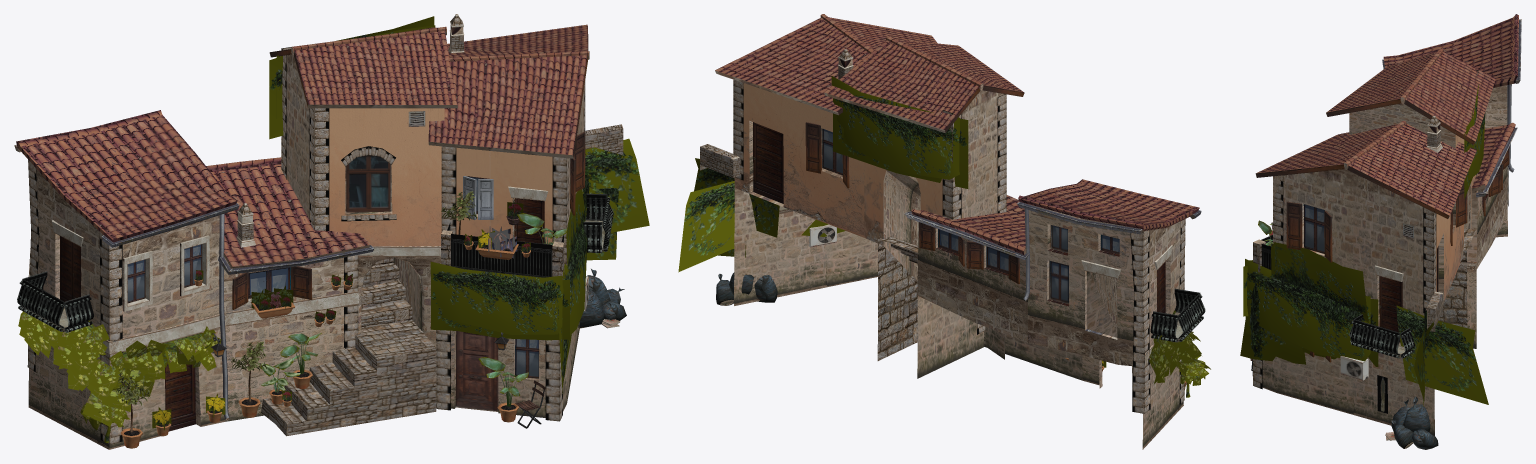
The model's file is house_4.fbx.
The picture shows the model from 3 angles, left to right: view 1: azimuth 30°, elevation 25°; view 2: azimuth 150°, elevation 25°; view 3: azimuth 270°, elevation 25°; orthographic projection. The views are drawn at different scales.
Parts seen in each view (by area): view 1: House_4; view 2: House_4; view 3: House_4.
Part boxes in pixels (left/top/right/bottom): House_4: left=14, top=14, right=649, bottom=449; House_4: left=678, top=14, right=1210, bottom=449; House_4: left=1240, top=14, right=1521, bottom=449.
Size of the model in its own units: 1862 by 1009 by 907.
